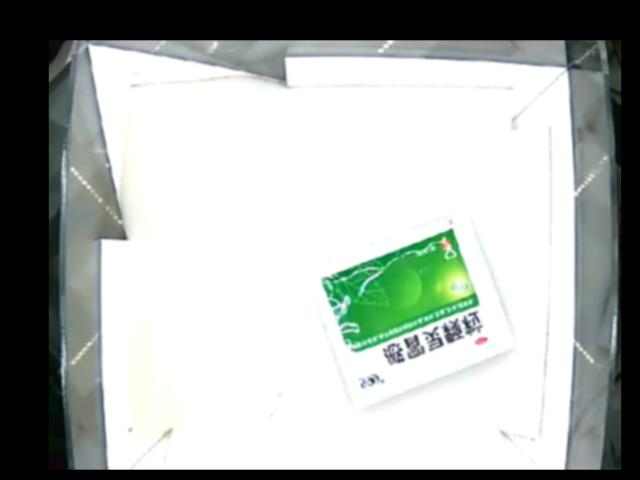Medicine: (310, 208, 516, 409)
